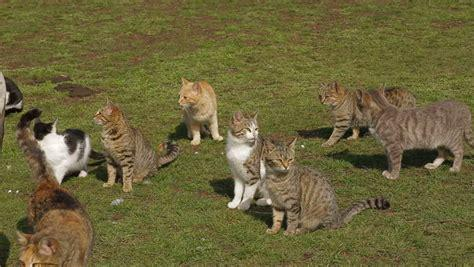cat: (263, 137, 389, 234), (357, 83, 474, 178), (92, 99, 179, 191), (318, 80, 416, 146), (34, 117, 91, 185), (228, 109, 265, 209), (178, 78, 223, 144)
